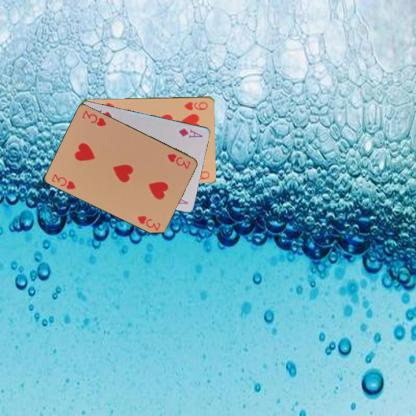3h: (49, 171, 78, 191), (164, 151, 192, 170)
9h: (182, 99, 209, 111)
Ad: (176, 126, 204, 140)
